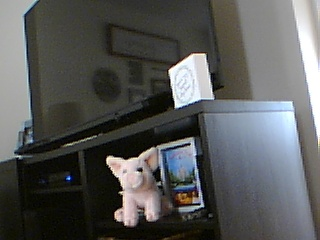piggy: (104, 146, 171, 228)
